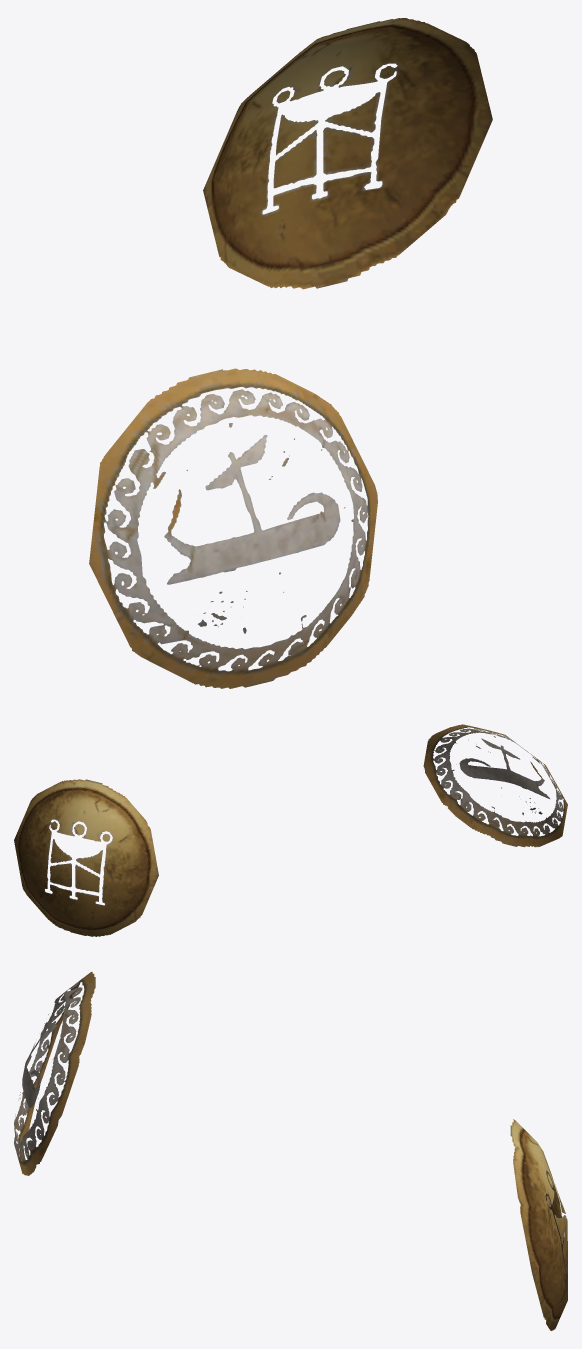
Rendered from hele_civic_shields.dae.
3 views of the same model, one above another, from view 1: azimuth 30°, elevation 25°; view 2: azimuth 150°, elevation 25°; view 3: azimuth 270°, elevation 25° (orthographic). The views are drawn at different scales.
Parts seen in each view (by area): view 1: shield18-Pivot; view 2: shield18-Pivot; view 3: shield18-Pivot.
Boxes of the visible parts, x1,y1,x2,y2 form: shield18-Pivot: [89, 18, 492, 688]; shield18-Pivot: [14, 724, 567, 936]; shield18-Pivot: [14, 972, 567, 1330].
Size of the model in its own units: 5.21 by 4.94 by 1.86.
